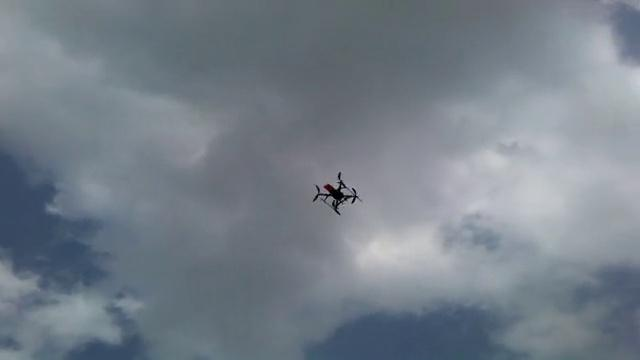drone: (311, 168, 363, 216)
